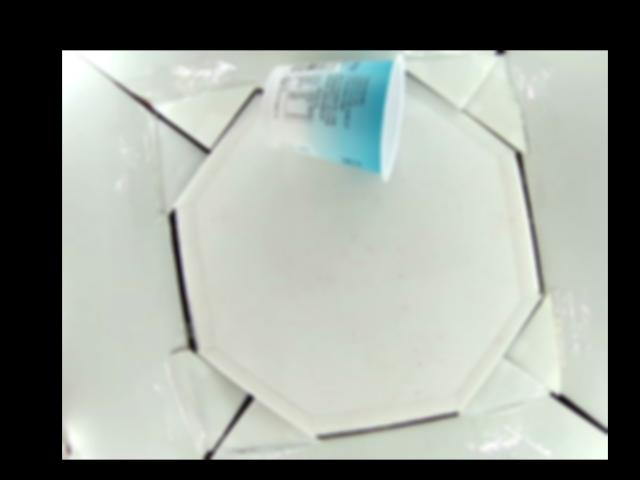Cup: (265, 53, 405, 182)
